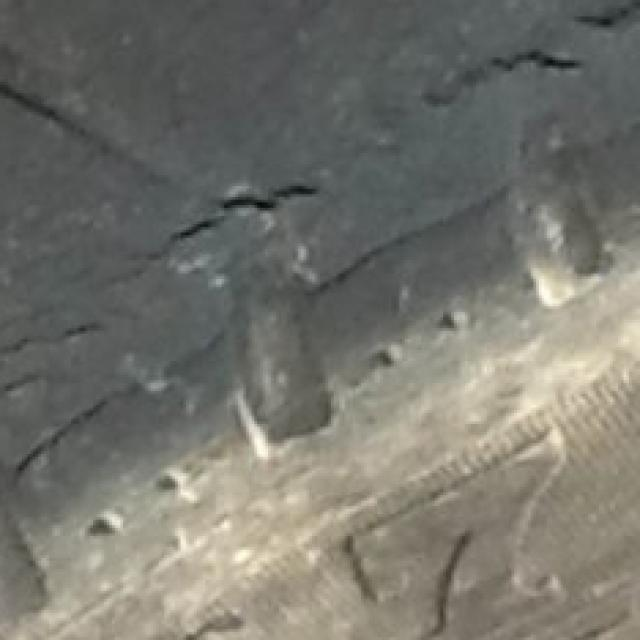Cracks: (0, 0, 637, 432)
